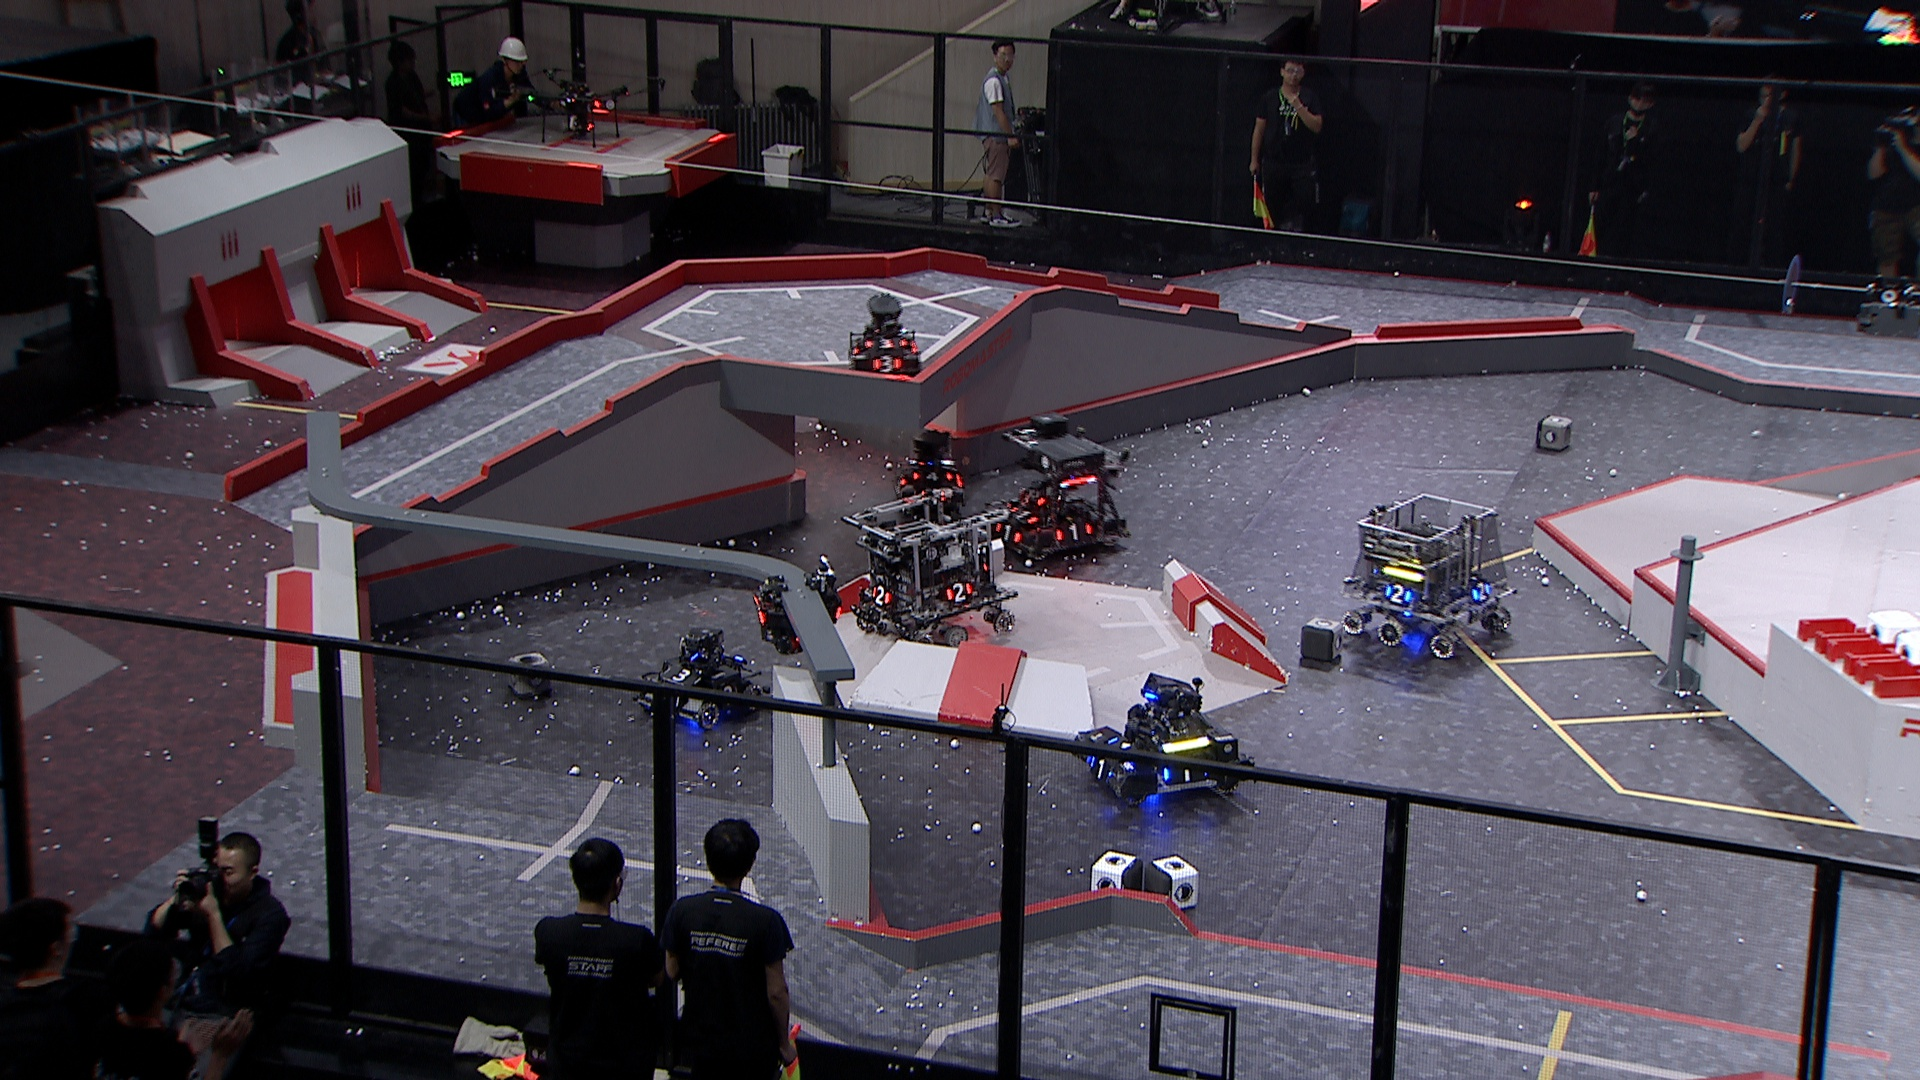armor: (1162, 752, 1215, 785), (657, 659, 705, 688), (1084, 754, 1116, 787), (1007, 500, 1043, 526), (1054, 524, 1093, 547), (909, 465, 955, 485), (993, 520, 1025, 547), (942, 579, 975, 604), (865, 335, 909, 353), (1382, 584, 1415, 607), (749, 589, 769, 626), (868, 582, 895, 608), (872, 353, 903, 375), (1466, 580, 1490, 603), (891, 467, 911, 489)
car: (1342, 491, 1513, 659), (841, 487, 1015, 647), (1073, 671, 1247, 802), (977, 429, 1135, 566), (636, 626, 767, 731), (845, 290, 923, 377), (891, 425, 967, 508)
watcher: (749, 551, 847, 659)
